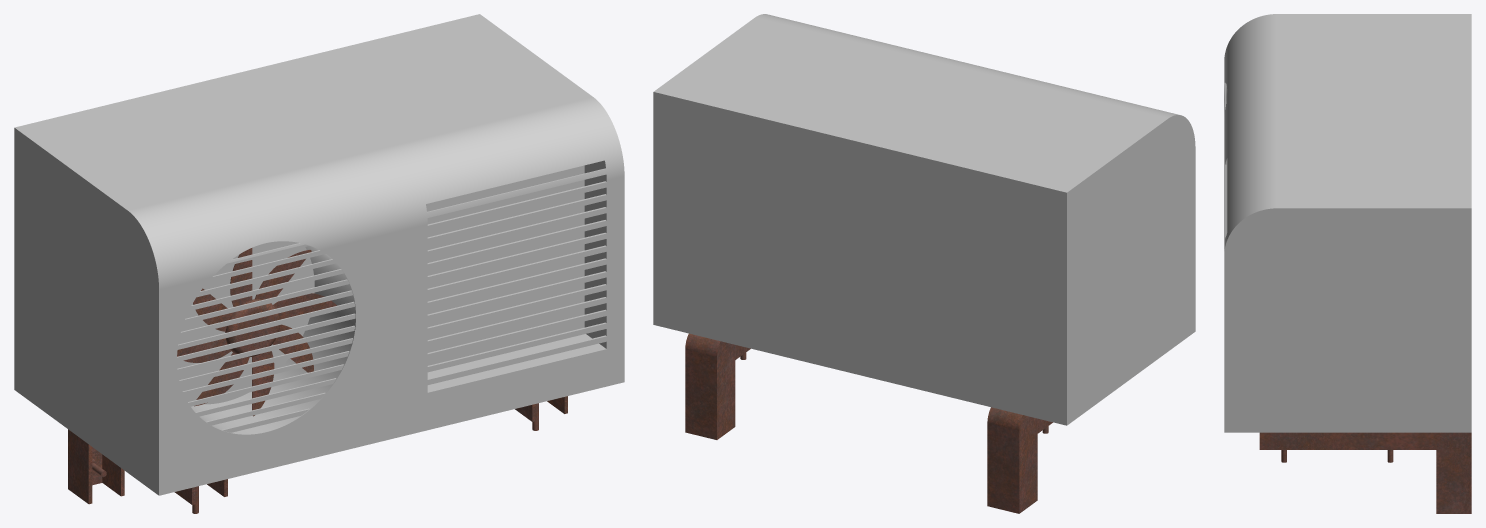
File: AirConOld.fbx
The picture shows the model from 3 angles, left to right: view 1: azimuth 30°, elevation 25°; view 2: azimuth 150°, elevation 25°; view 3: azimuth 270°, elevation 25°; orthographic projection. The views are drawn at different scales.
Visible parts, largest first — view 1: defaultMaterial; view 2: defaultMaterial; view 3: defaultMaterial.
Boxes of the visible parts, x1,y1,x2,y2 form: defaultMaterial: (14,14,624,513); defaultMaterial: (653,14,1195,513); defaultMaterial: (1224,14,1471,513).
Bounding box in the file's own units: 200 × 154 × 108.
